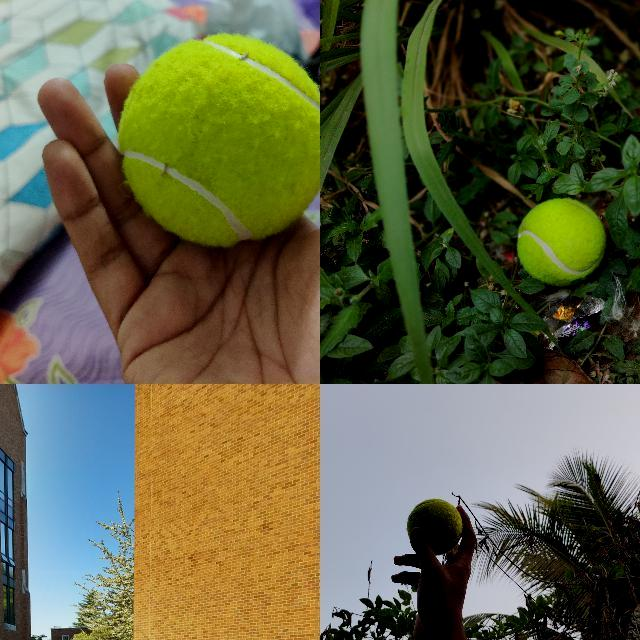Tennis Ball: (117, 30, 320, 249), (517, 198, 606, 285), (406, 497, 463, 555)
